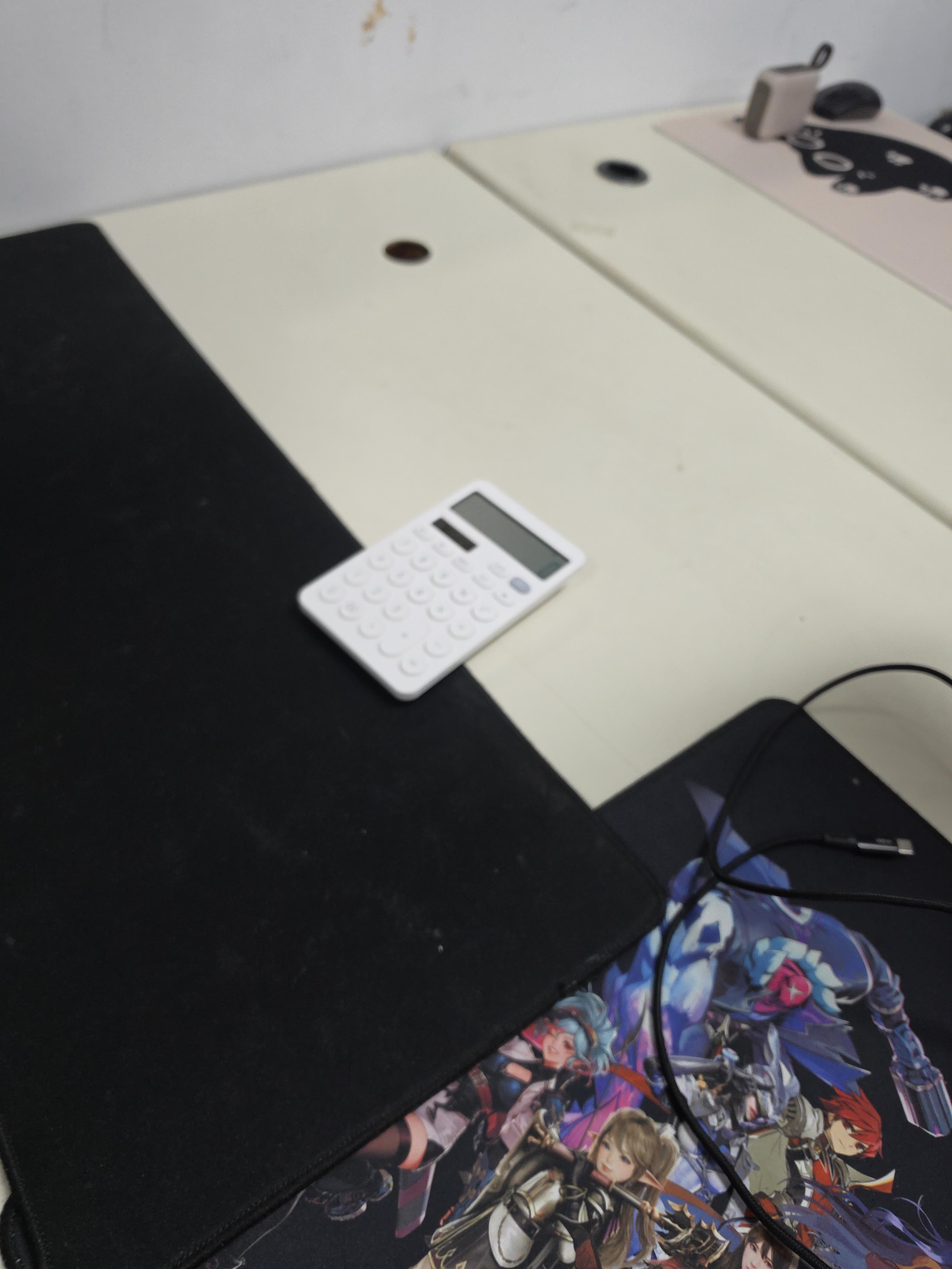calculator: (297, 479, 588, 701)
